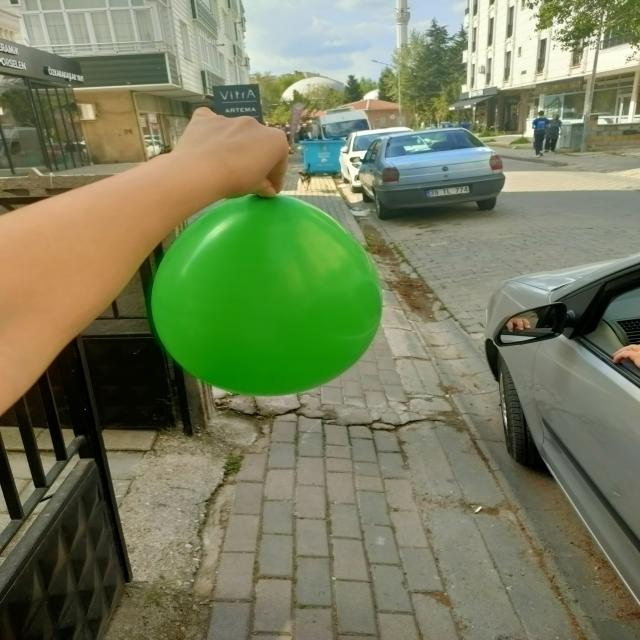green: (150, 192, 383, 400)
